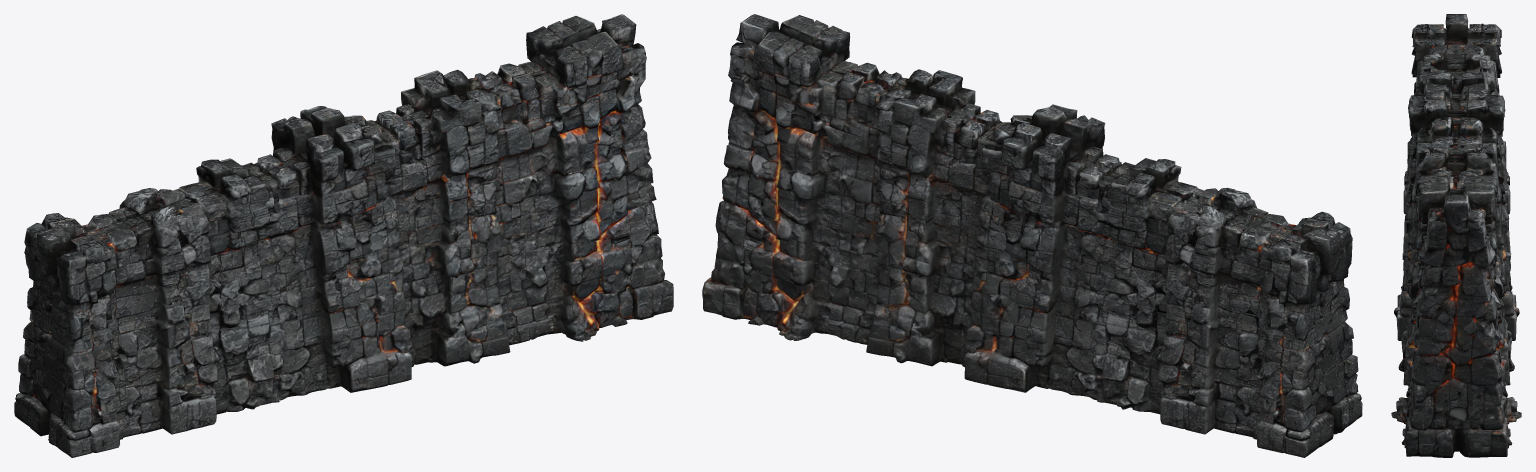
File: fort_volcano_wall.glb
3 renders of one model, left to right at view 1: azimuth 30°, elevation 25°; view 2: azimuth 150°, elevation 25°; view 3: azimuth 270°, elevation 25°, orthographic. The views are drawn at different scales.
Visible parts, largest first — view 1: tripo_node_903ee243-40cb-4fa4-9c96-697727e7024c; view 2: tripo_node_903ee243-40cb-4fa4-9c96-697727e7024c; view 3: tripo_node_903ee243-40cb-4fa4-9c96-697727e7024c.
Part boxes in pixels (bbox=[...]): tripo_node_903ee243-40cb-4fa4-9c96-697727e7024c: bbox=[14, 14, 673, 457]; tripo_node_903ee243-40cb-4fa4-9c96-697727e7024c: bbox=[702, 14, 1362, 457]; tripo_node_903ee243-40cb-4fa4-9c96-697727e7024c: bbox=[1391, 14, 1521, 457].
Bounding box in the file's own units: 1 × 0.4366 × 0.208.
1 material, 1 textured.
